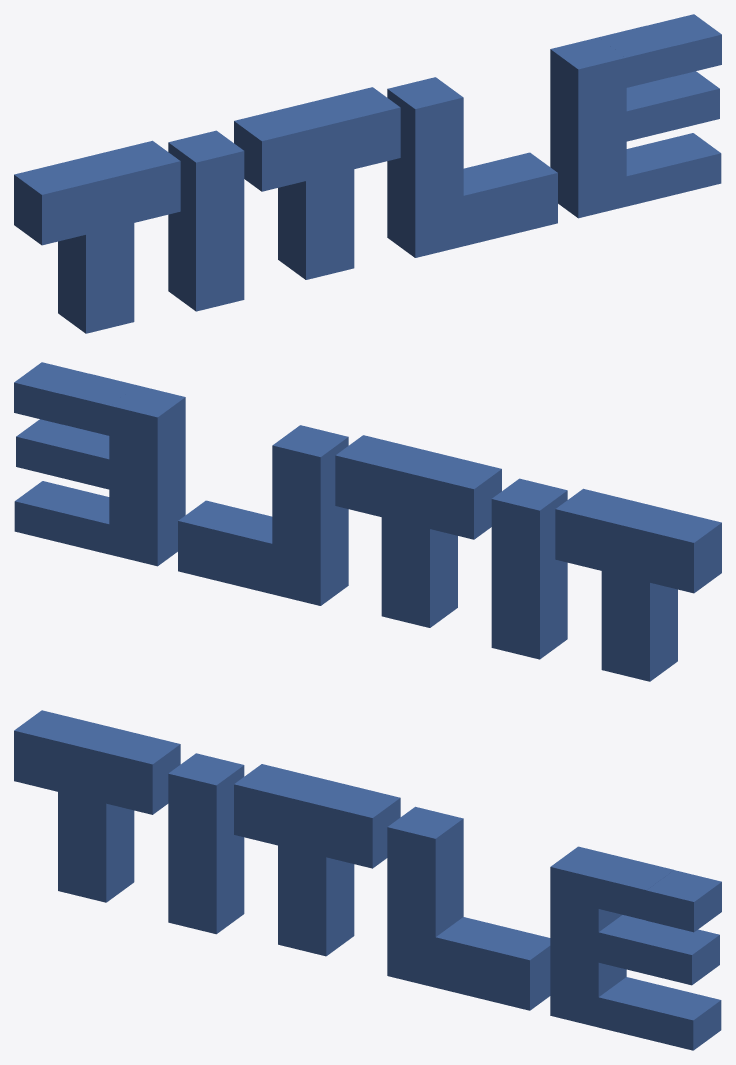
File: title.fbx
The picture shows the model from 3 angles, top to bottom: view 1: azimuth 30°, elevation 25°; view 2: azimuth 150°, elevation 25°; view 3: azimuth 330°, elevation 25°; orthographic projection.
Parts seen in each view (by area): view 1: pCube30; view 2: pCube30; view 3: pCube30.
Boxes of the visible parts, box(x1,y1,x2,y2) form: pCube30: box(14, 14, 721, 333); pCube30: box(14, 362, 721, 681); pCube30: box(14, 710, 721, 1050).
Bounding box in the file's own units: 7.04 × 1.53 × 0.5.
